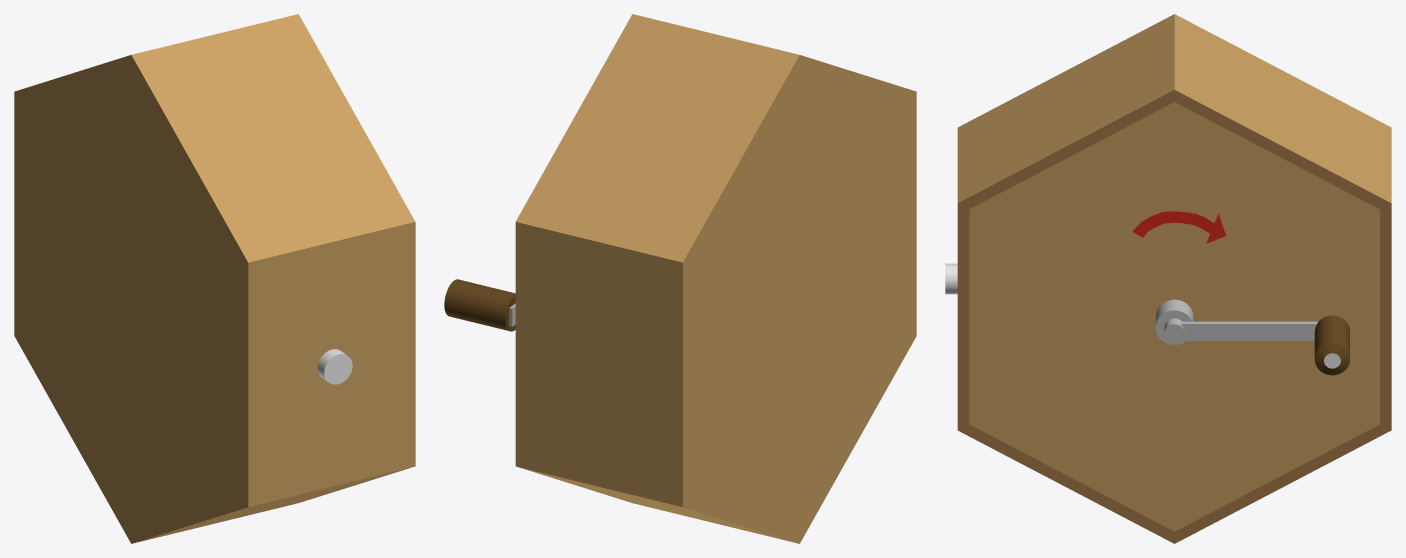
Rendered from garagarapon_A.glb.
3 views of the same model, side by side, from view 1: azimuth 30°, elevation 25°; view 2: azimuth 150°, elevation 25°; view 3: azimuth 270°, elevation 25° (orthographic). The views are drawn at different scales.
Parts seen in each view (by area): view 1: Cylinder, Cylinder.003; view 2: Cylinder, Cylinder.002; view 3: Cylinder, Cube, Cylinder.002, Cylinder.001, Plane.
Boxes of the visible parts, box(x1,y1,x2,y2) form: Cylinder: box(14, 14, 415, 543); Cylinder.003: box(317, 349, 352, 384); Cylinder: box(515, 14, 916, 543); Cylinder.002: box(444, 279, 515, 331); Cylinder: box(957, 14, 1391, 543); Cube: box(1180, 321, 1317, 340); Cylinder.002: box(1314, 315, 1349, 375); Cylinder.001: box(1155, 299, 1193, 344); Plane: box(1132, 211, 1226, 243).
Bounding box in the file's own units: 1.11 × 1.96 × 1.75.
